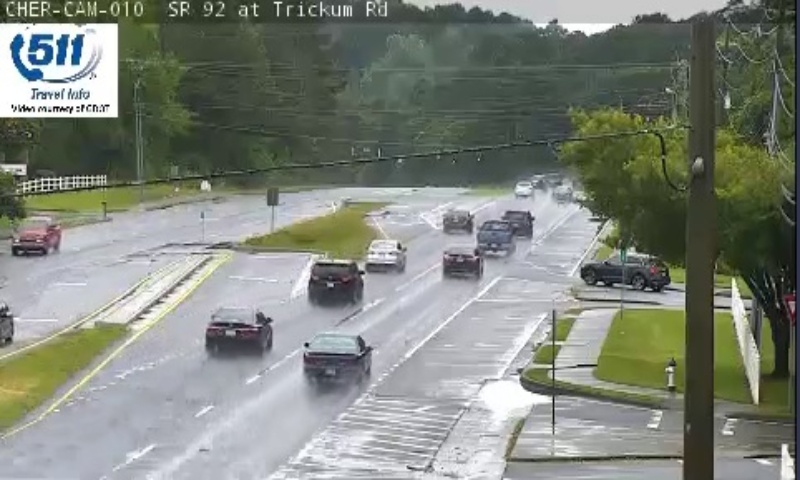car: (303, 333, 370, 382), (204, 306, 273, 351), (308, 258, 361, 301), (365, 238, 404, 270), (478, 220, 514, 252), (443, 245, 482, 274), (502, 209, 532, 238), (443, 209, 471, 232)
